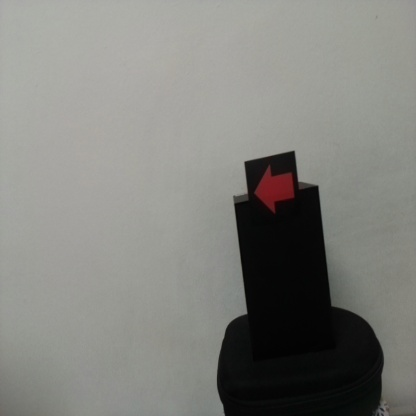id_4: (246, 163, 300, 223)
